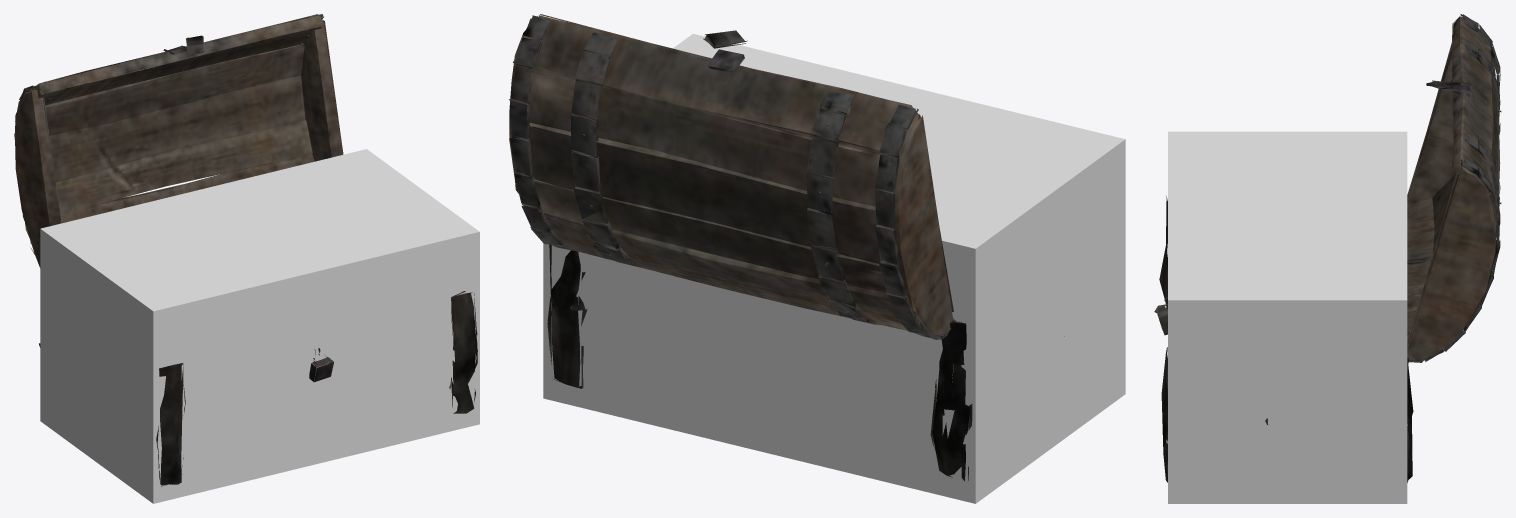
Rendered from iron_chest_lite_opened.glb.
The picture shows the model from 3 angles, left to right: view 1: azimuth 30°, elevation 25°; view 2: azimuth 150°, elevation 25°; view 3: azimuth 270°, elevation 25°; orthographic projection. The views are drawn at different scales.
Parts seen in each view (by area): view 1: col_chest, lid, body; view 2: col_chest, lid, body; view 3: col_chest, lid, body.
Boxes of the visible parts, box(x1,y1,x2,y2) form: col_chest: box(40, 149, 479, 503); lid: box(14, 14, 343, 267); body: box(39, 291, 477, 486); col_chest: box(543, 33, 1125, 503); lid: box(509, 14, 953, 339); body: box(547, 244, 1064, 480); col_chest: box(1168, 131, 1407, 503); lid: box(1407, 14, 1501, 362); body: box(1154, 196, 1413, 482).
Size of the model in its own units: 1.1 by 1.05 by 0.9586.
Materials: 1 (1 with a texture image).
